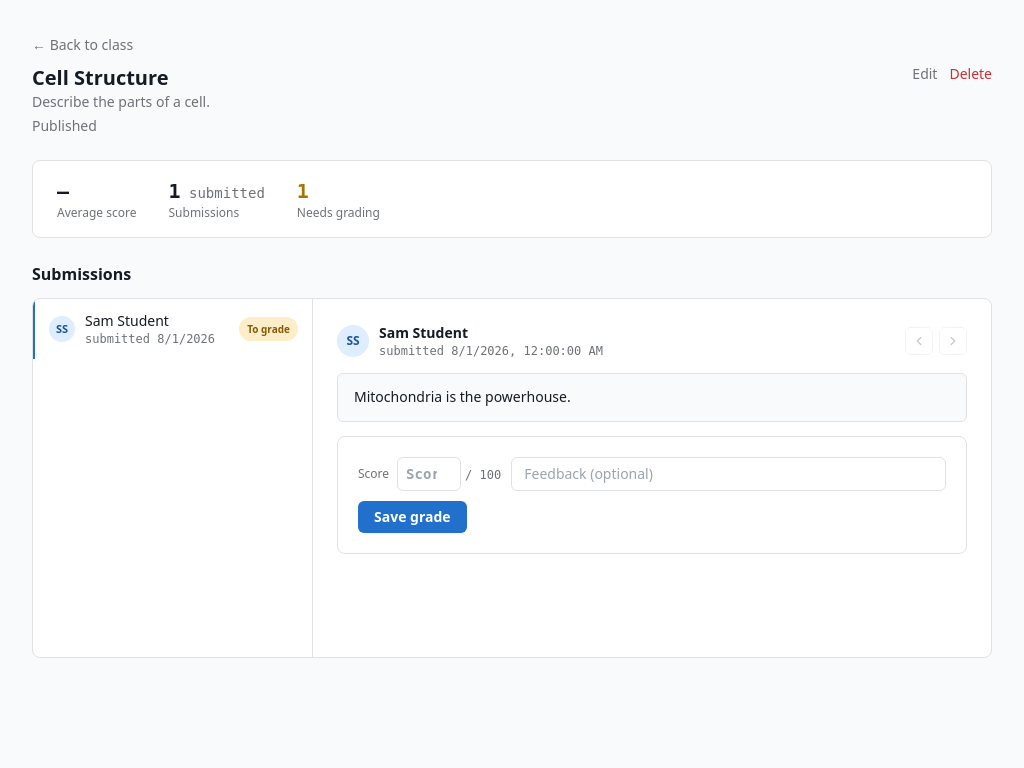
it: AssignmentDetailPage › lists a submission and grades it
expect the 1st text "Sam Student" is shown: met, box [85,311,169,330]
expect the text "Mitochondria is the powerhouse." is shown: met, box [337,373,967,422]
In the number field with placeholder "Score": (429, 474) [397,457,461,491], type "90"
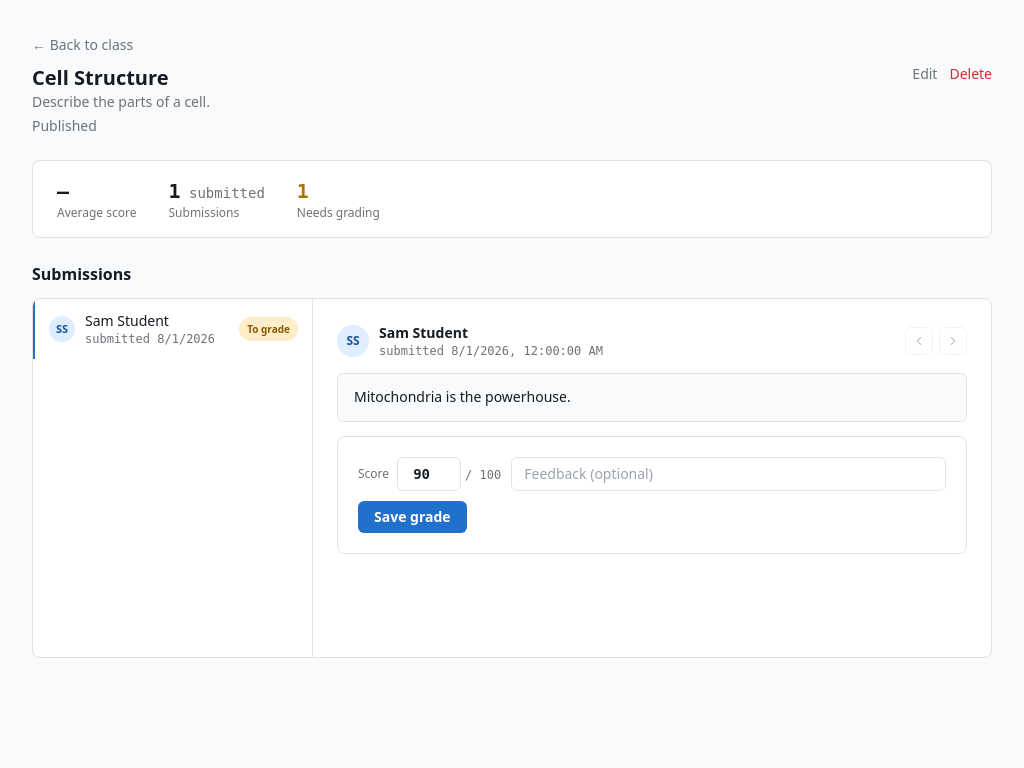
In the field with placeholder "Feedback (optional)": (729, 474) [511,457,946,491], type "Great job."
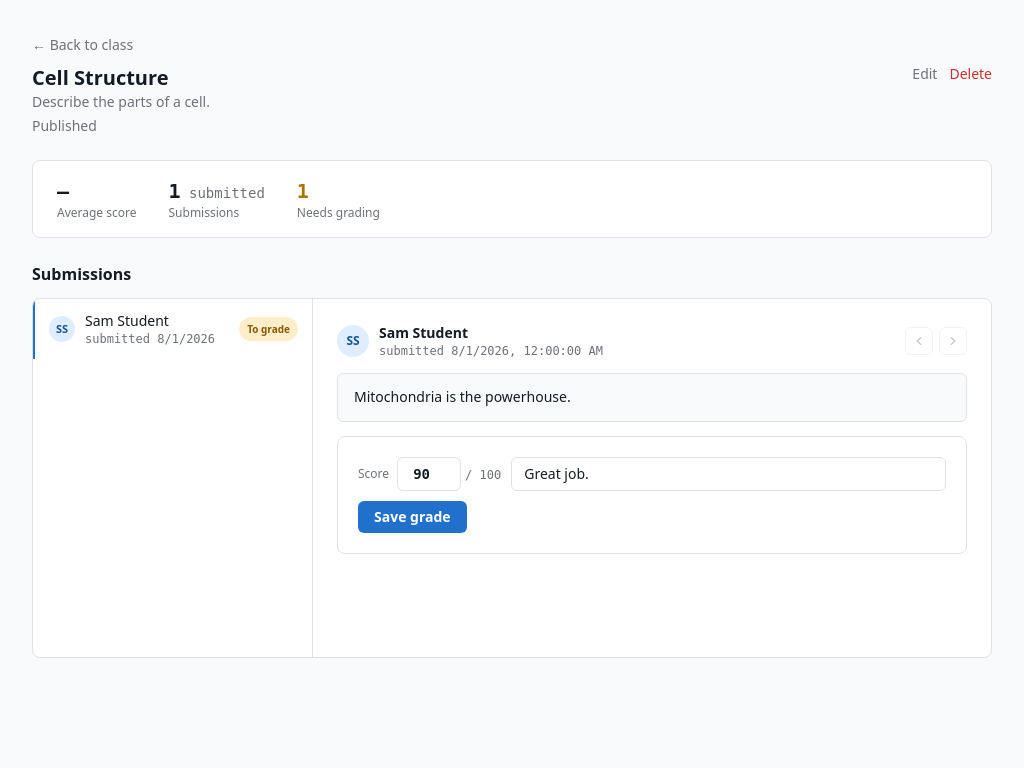
Click the button "Save grade": (412, 517) [358,501,467,533]
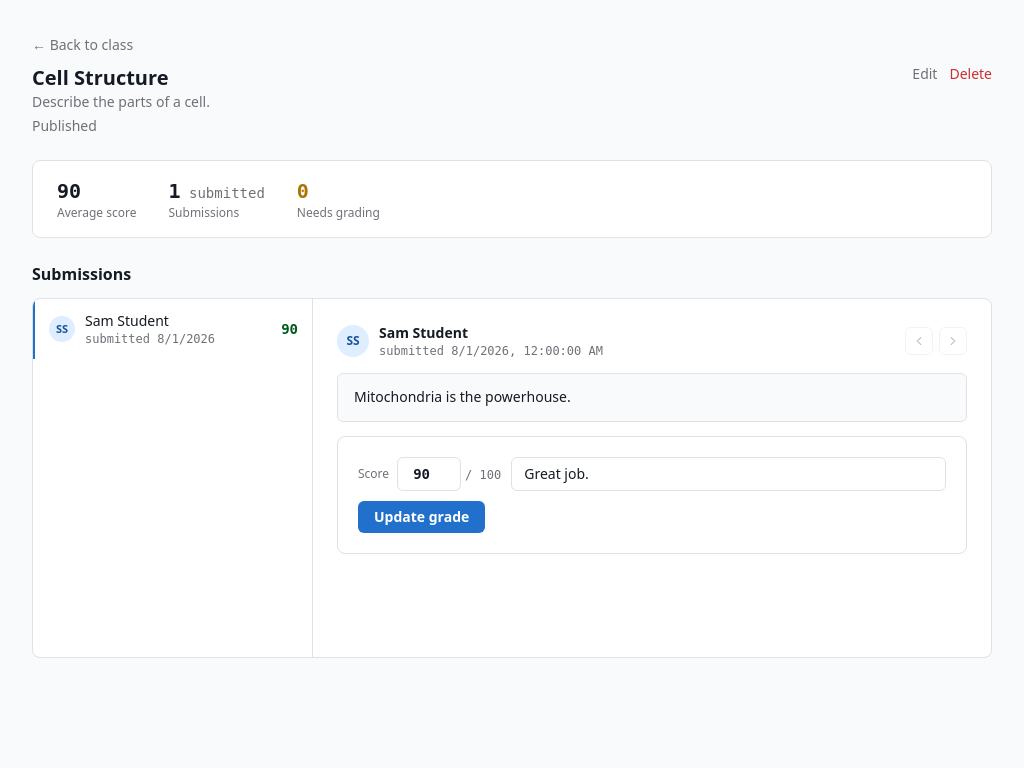
expect the button "Update grade" is shown: met, box [358,501,485,533]
